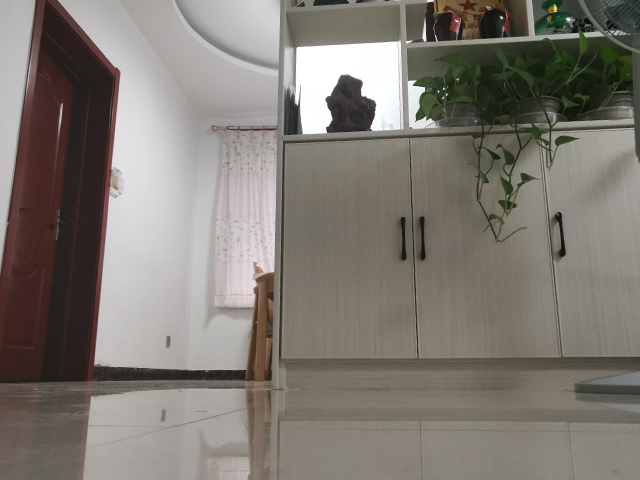cabinet: (275, 122, 640, 384)
curtain: (214, 123, 276, 309)
